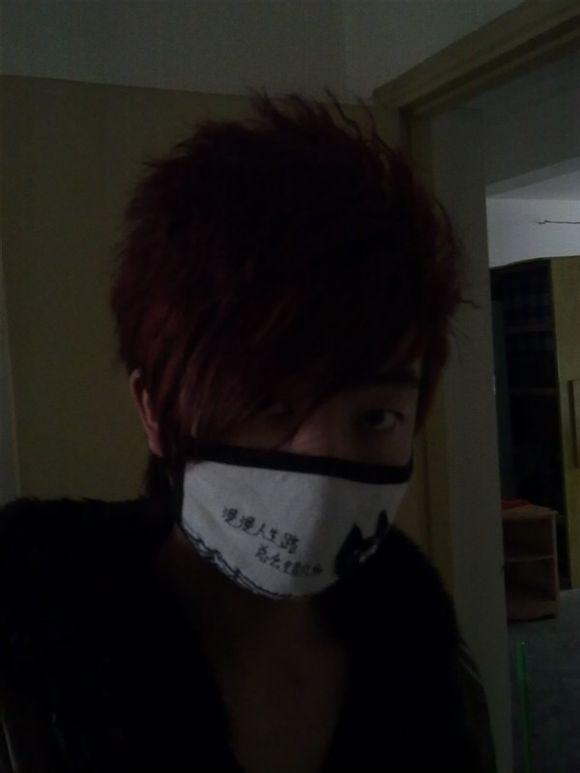OK: (184, 352, 423, 591)
